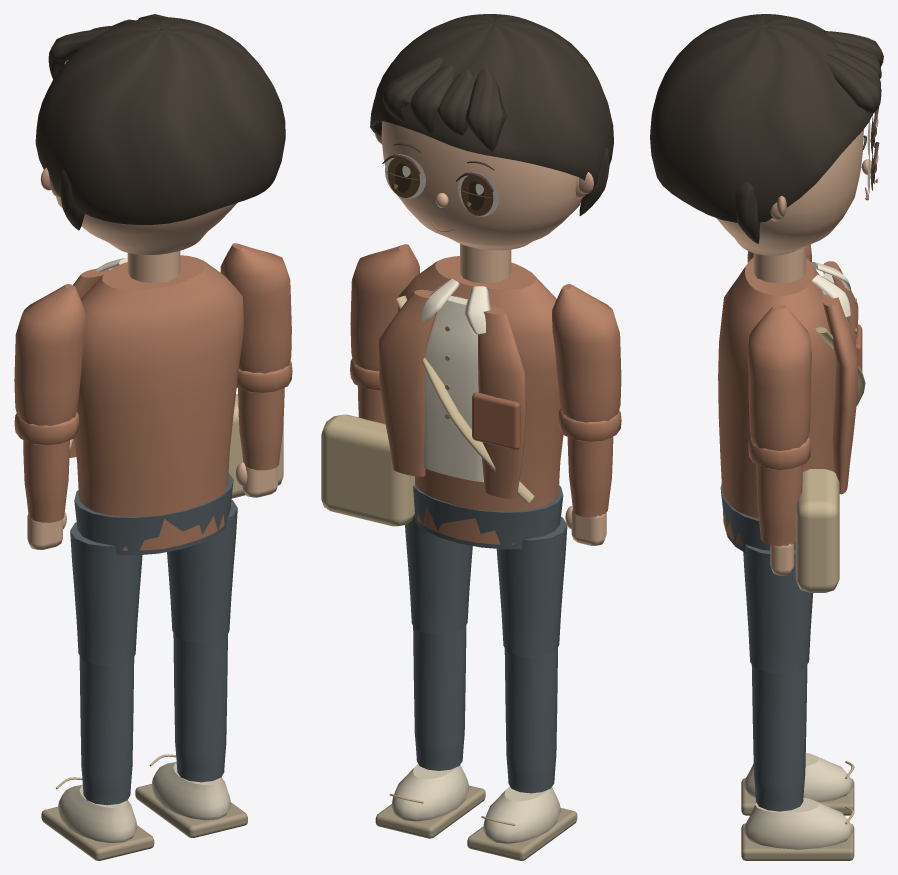
The model's file is visitor-a-native-v3.glb.
The picture shows the model from 3 angles, left to right: view 1: azimuth 30°, elevation 25°; view 2: azimuth 150°, elevation 25°; view 3: azimuth 270°, elevation 25°; orthographic projection. The views are drawn at different scales.
Parts seen in each view (by area): view 1: head.surface.8, body.surface.0, arm-left.surface.29, leg-left.surface.32, arm-right.surface.37, shin-right.surface.41, shin-left.surface.33, leg-right.surface.40, body.surface.3, head.surface.7, forearm-left.surface.30, forearm-right.surface.38 (+9 smaller); view 2: head.surface.8, body.surface.0, head.surface.7, body.surface.5, body.surface.1, arm-left.surface.29, leg-left.surface.32, shin-right.surface.41, shin-left.surface.33, leg-right.surface.40, arm-right.surface.37, body.surface.3 (+12 smaller); view 3: head.surface.8, body.surface.0, arm-right.surface.37, shin-right.surface.41, leg-right.surface.40, head.surface.7, body.surface.5, foot-right.surface.42, forearm-right.surface.38, foot-left.surface.34, foot-right.surface.43, body.surface.2 (+5 smaller).
Boxes of the visible parts, box(x1,y1,x2,y2) form: head.surface.8: box(35, 14, 285, 224); body.surface.0: box(69, 255, 244, 550); arm-left.surface.29: box(14, 284, 85, 445); leg-left.surface.32: box(70, 522, 142, 666); arm-right.surface.37: box(220, 243, 292, 393); shin-right.surface.41: box(173, 633, 227, 782); shin-left.surface.33: box(79, 656, 134, 805); leg-right.surface.40: box(167, 499, 237, 643); body.surface.3: box(74, 473, 233, 555); head.surface.7: box(49, 178, 236, 254); forearm-left.surface.30: box(23, 440, 69, 522); forearm-right.surface.38: box(238, 388, 284, 470); head.surface.8: box(370, 14, 613, 185); body.surface.0: box(379, 256, 563, 544); head.surface.7: box(381, 121, 586, 250); body.surface.5: box(321, 295, 534, 526); body.surface.1: box(420, 278, 490, 482); arm-left.surface.29: box(552, 284, 621, 442); leg-left.surface.32: box(496, 517, 567, 657); shin-right.surface.41: box(413, 625, 466, 770); shin-left.surface.33: box(504, 647, 557, 793); leg-right.surface.40: box(405, 516, 472, 635); arm-right.surface.37: box(350, 244, 419, 390); body.surface.3: box(413, 485, 563, 549); head.surface.8: box(650, 14, 883, 222); body.surface.0: box(718, 257, 858, 546); arm-right.surface.37: box(747, 305, 811, 470); shin-right.surface.41: box(751, 664, 807, 811); leg-right.surface.40: box(743, 544, 813, 673); head.surface.7: box(716, 129, 871, 255); body.surface.5: box(795, 327, 865, 592); foot-right.surface.42: box(743, 797, 853, 849); forearm-right.surface.38: box(756, 464, 802, 546); foot-left.surface.34: box(743, 753, 853, 802); foot-right.surface.43: box(741, 823, 854, 860); body.surface.2: box(753, 246, 805, 283).
Bounding box in the file's own units: 0.5924 × 1.64 × 0.436.
20 materials, 1 textured.
